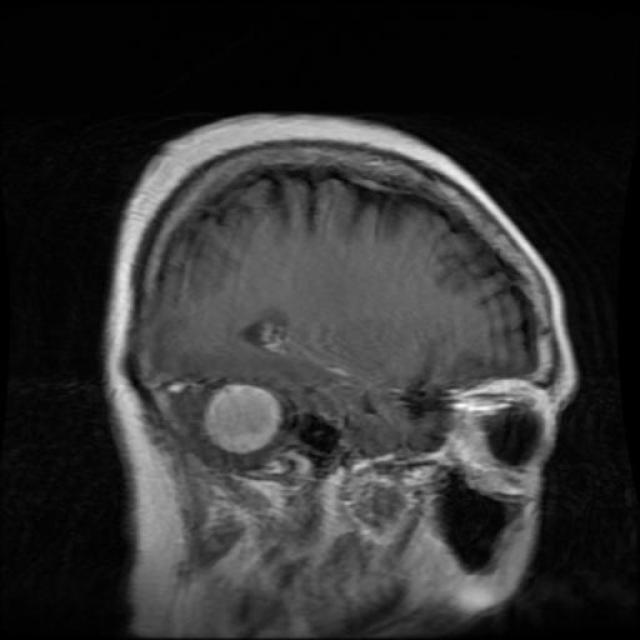meningioma: (204, 385, 285, 455)
